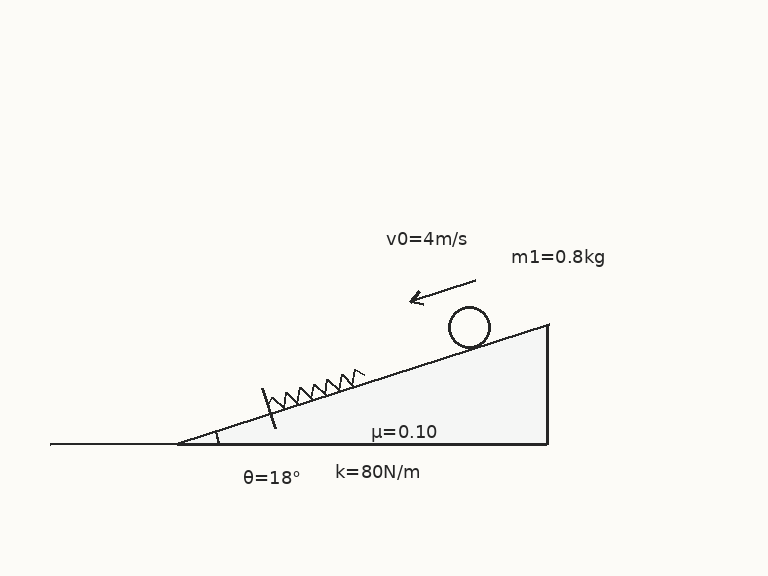ball: (446, 304, 492, 350)
ramp: (176, 322, 550, 446)
spring: (266, 368, 366, 410)
